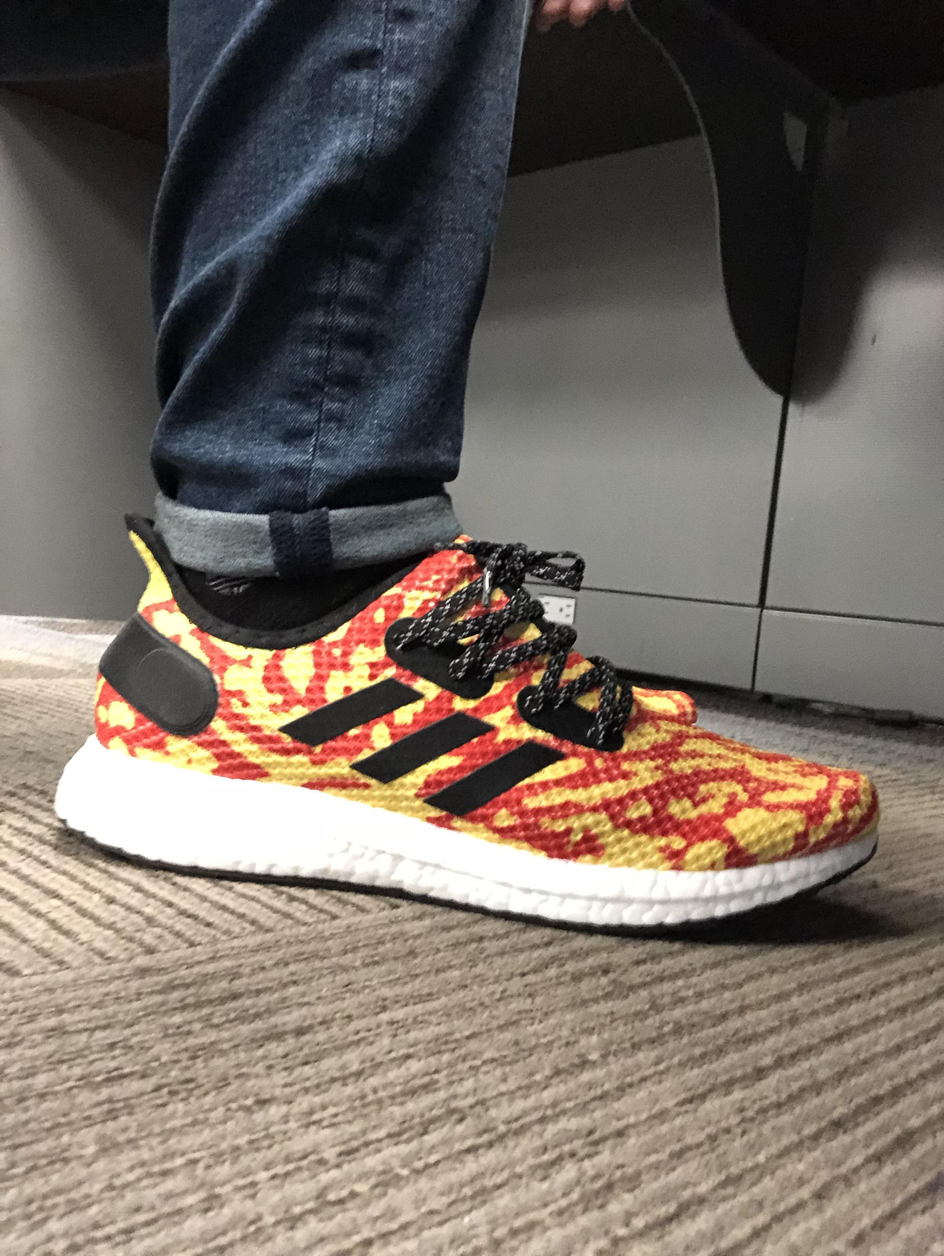sneaker: (56, 516, 886, 941)
